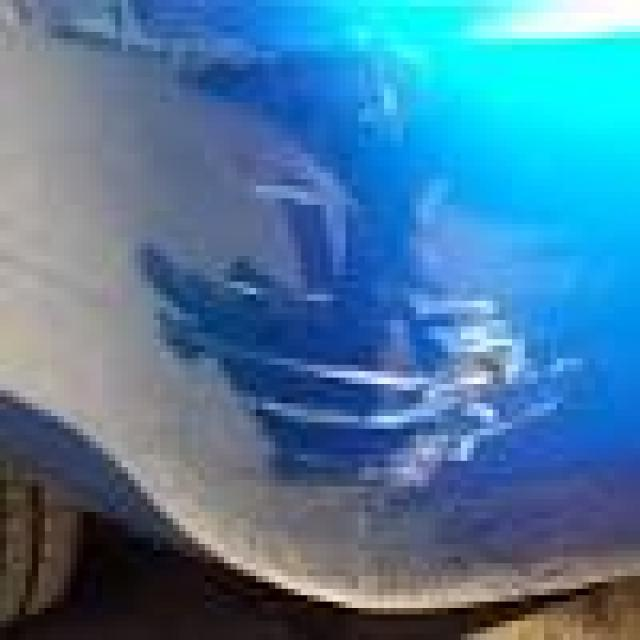minor: (222, 257, 596, 497)
